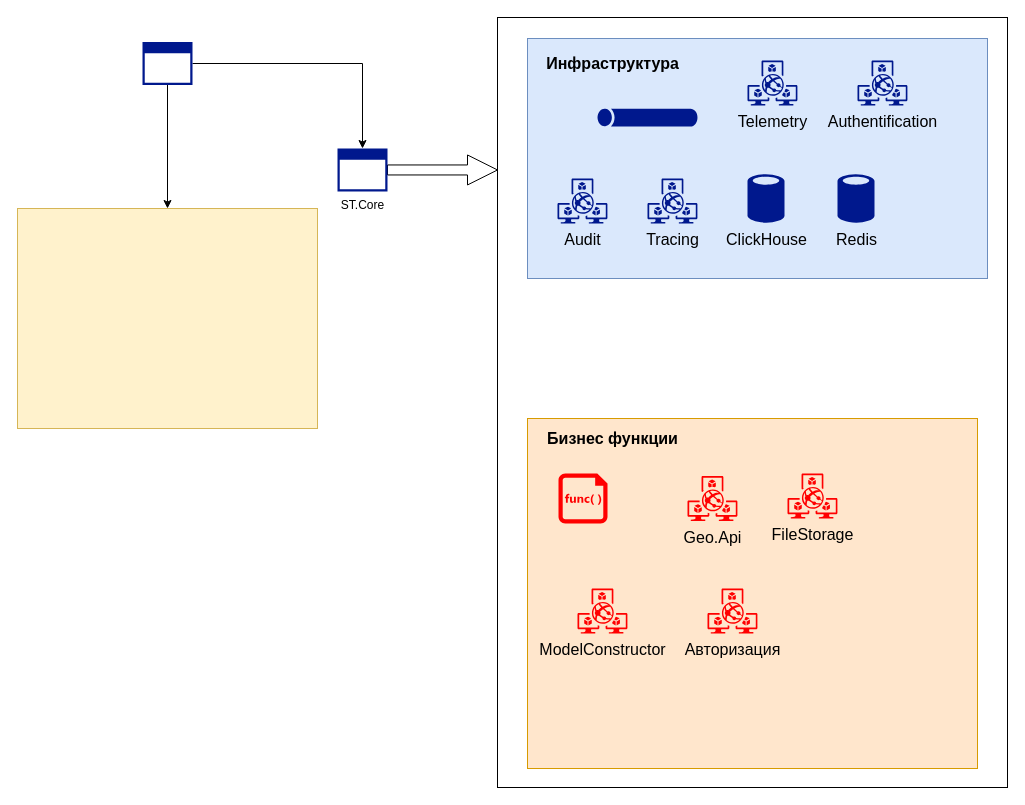
The diagram is 1025 pixels wide and 805 high, and some of its shapes have lost their labels. The centre of each missing label's shape, as x and y in pixels:
"Custom Application" belongs at (167,63).
"EAV - Storage" belongs at (582,498).
"Kafka.Tool" belongs at (647,117).
